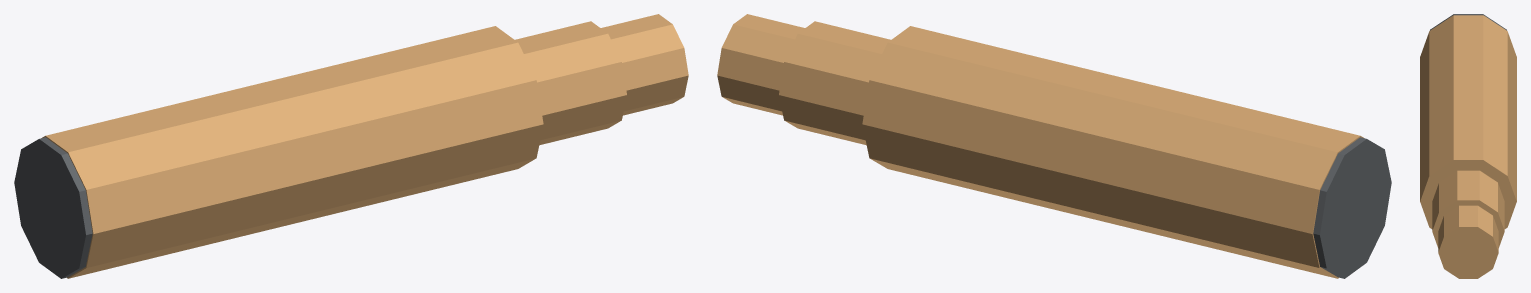
The model's file is shell_casing.glb.
3 renders of one model, left to right at view 1: azimuth 30°, elevation 25°; view 2: azimuth 150°, elevation 25°; view 3: azimuth 270°, elevation 25°, orthographic. The views are drawn at different scales.
Parts seen in each view (by area): view 1: shell_casing; view 2: shell_casing; view 3: shell_casing.
Part boxes in pixels (bbox=[...]): shell_casing: bbox=[14, 14, 688, 278]; shell_casing: bbox=[717, 14, 1391, 278]; shell_casing: bbox=[1420, 14, 1516, 278].
Size of the model in its own units: 0.0465 by 0.00913 by 0.0096.
